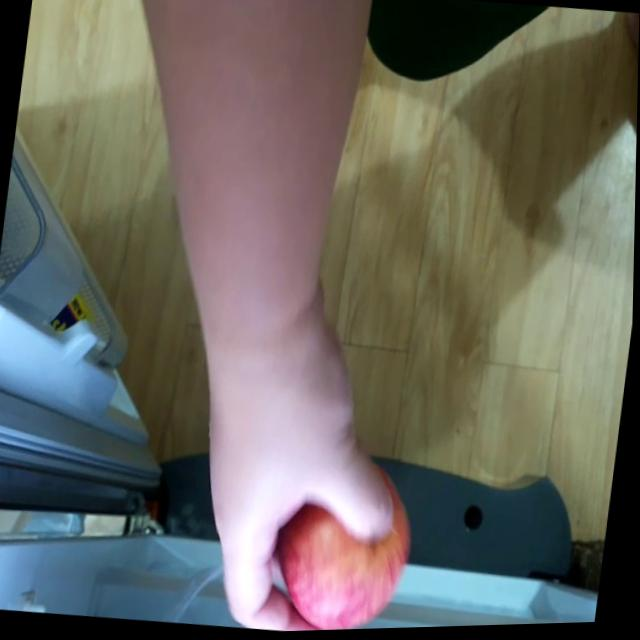apple: (265, 448, 423, 634)
